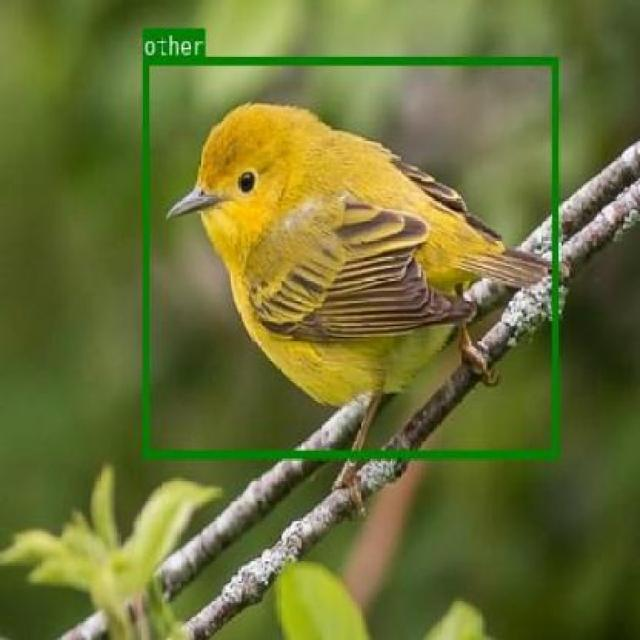other: (140, 55, 556, 457)
